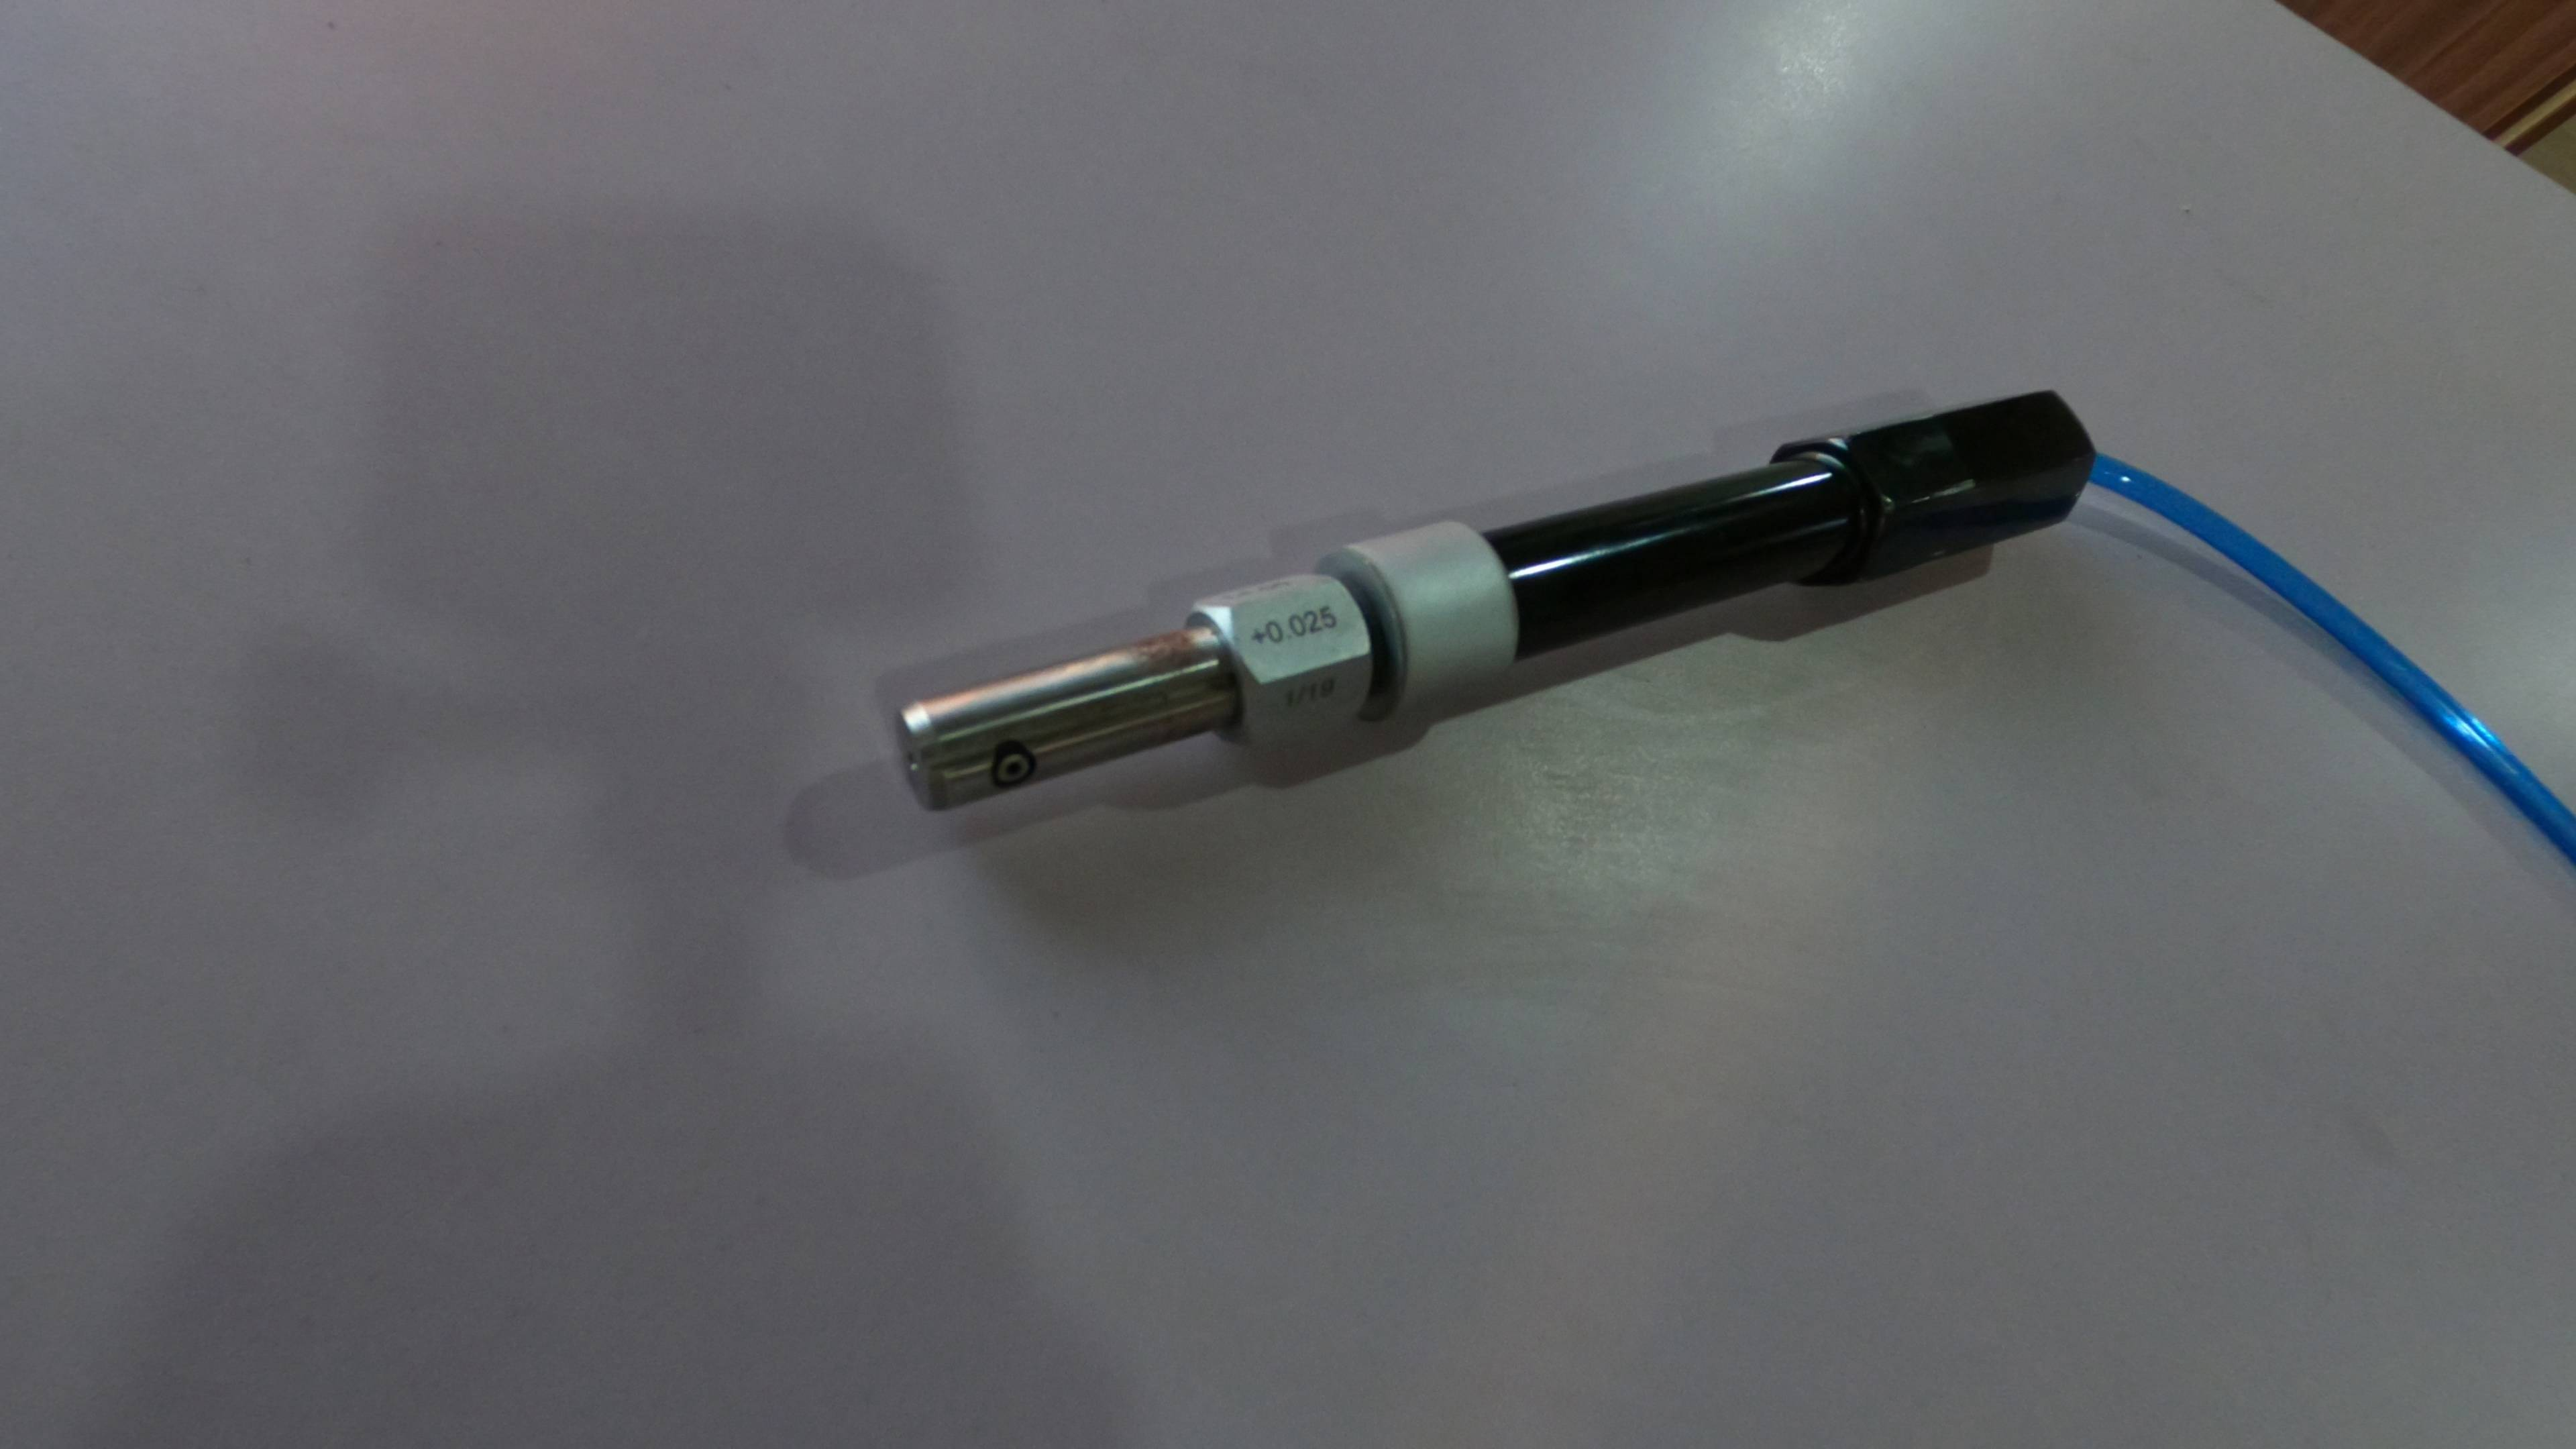air_gauge: (885, 382, 2097, 941)
